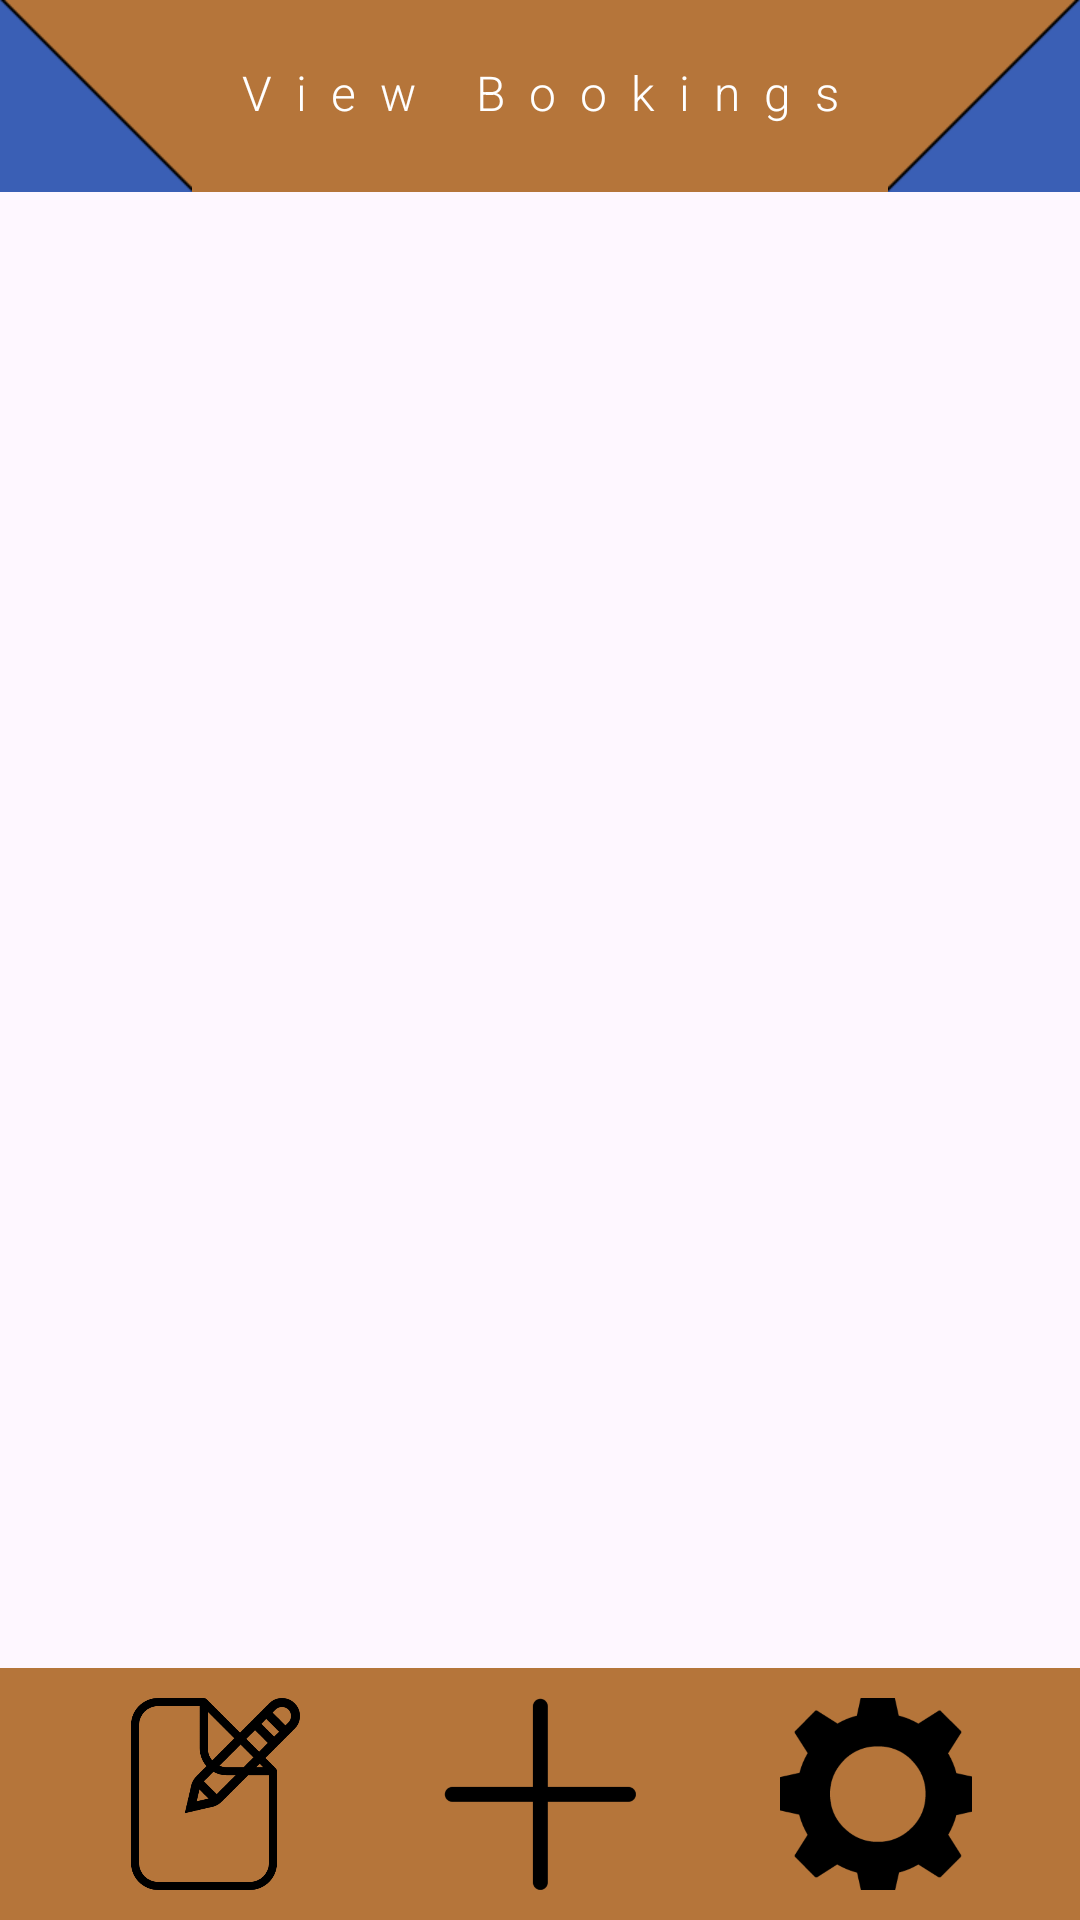

Where icons sit on this 1080 x 1920 app screen, as (x1, y1, x2, y2):
create booking: (444, 1698, 636, 1890)
settings: (780, 1698, 972, 1890)
